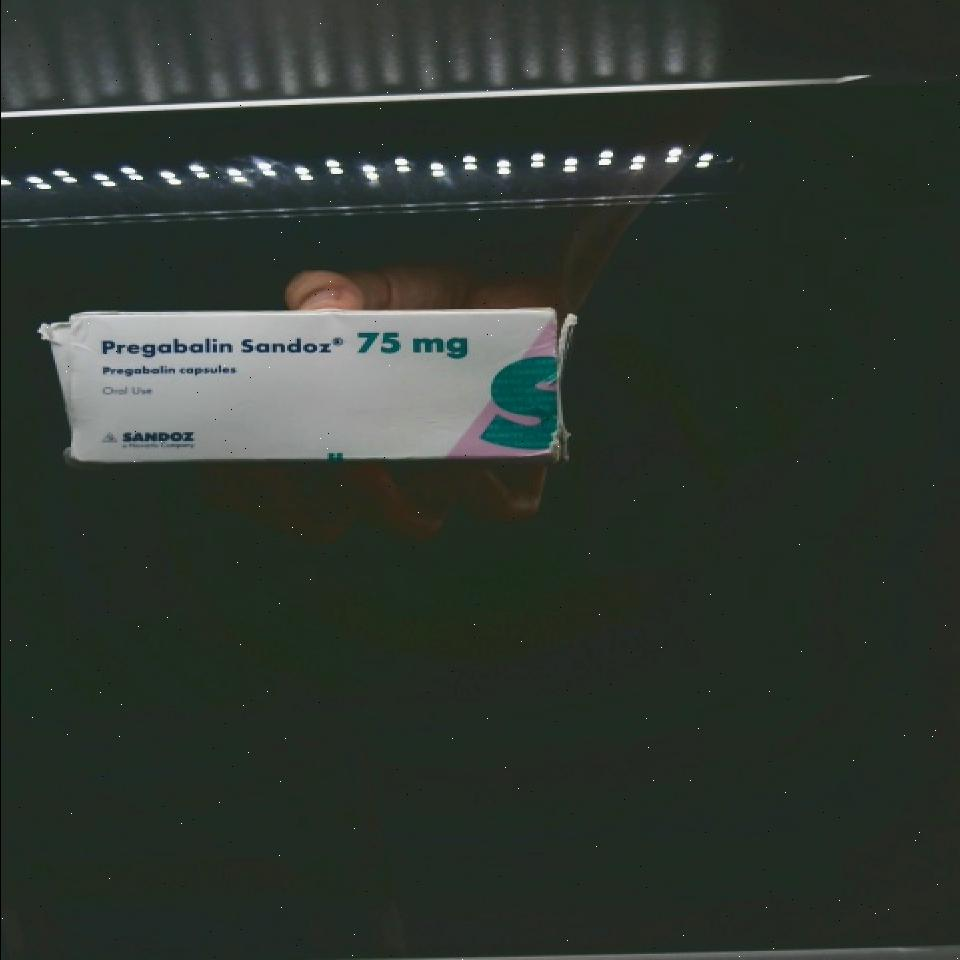medicine_box: (67, 305, 563, 461)
medicine_label_obb: (92, 316, 350, 369)
